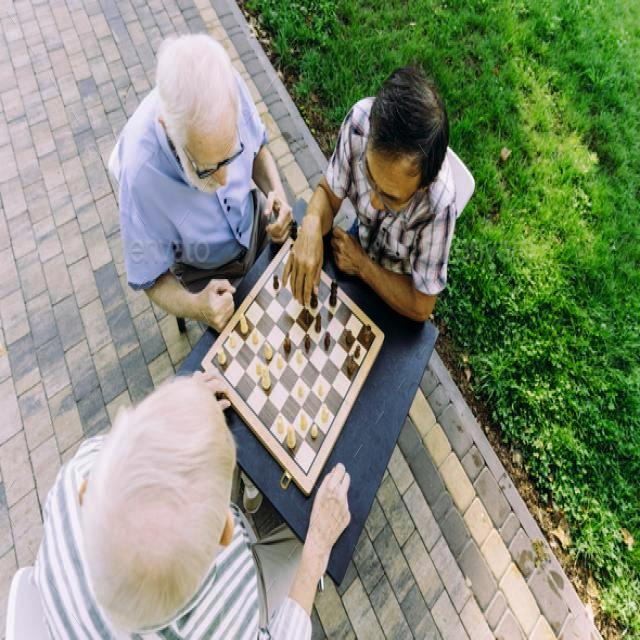chess-table-corners: (300, 464, 313, 480), (208, 355, 216, 369), (371, 331, 379, 342)
